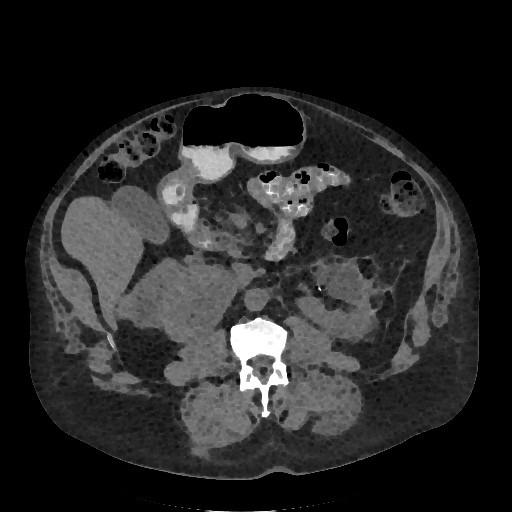Lesion: (162, 267, 238, 341)
